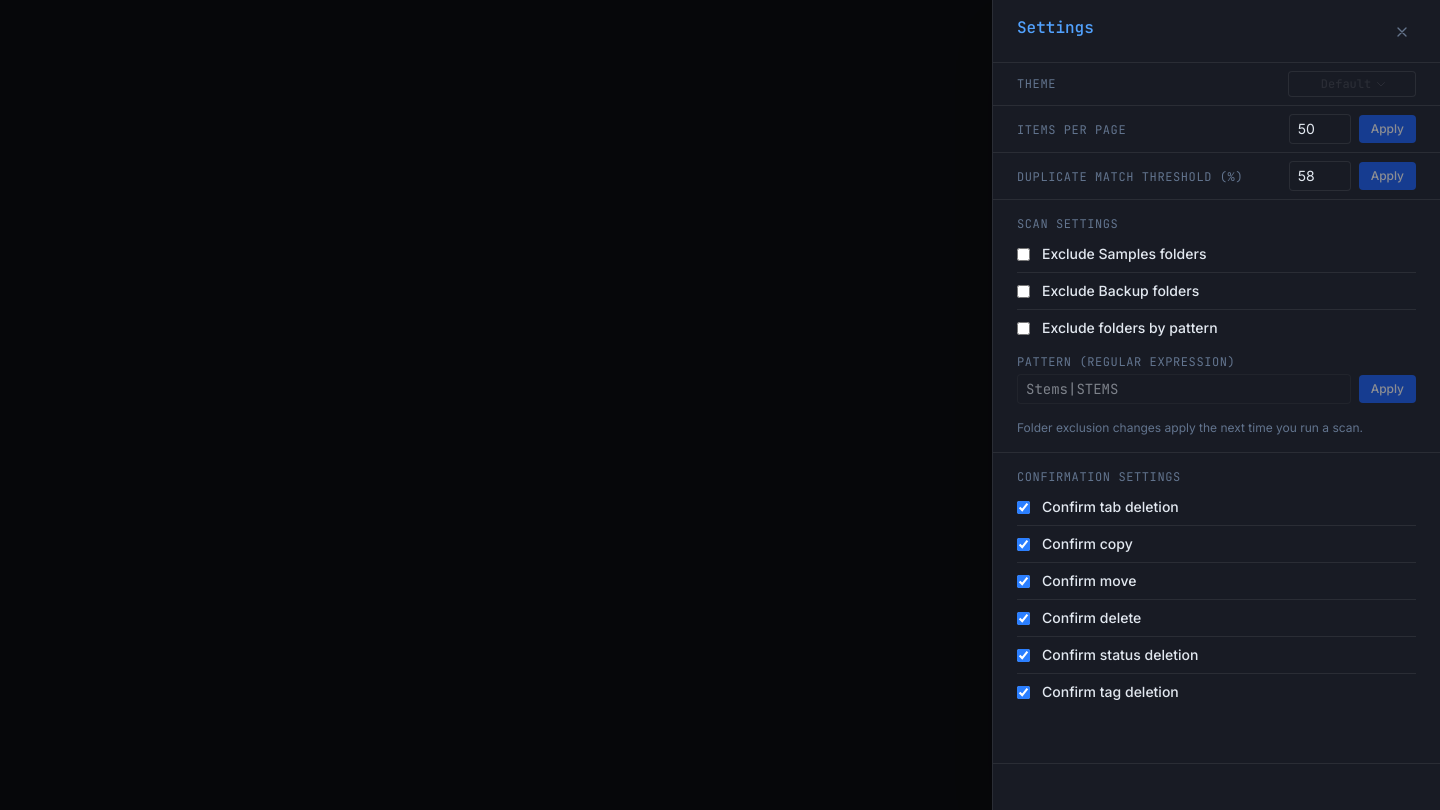
Test: SettingsPanel - handleChange optimistic merge › checks the box immediately (optimistic) without waiting for the save to resolve
Click the checkbox labelled "Exclude Samples folders": {"x": 1024, "y": 254} [1017,248,1030,260]
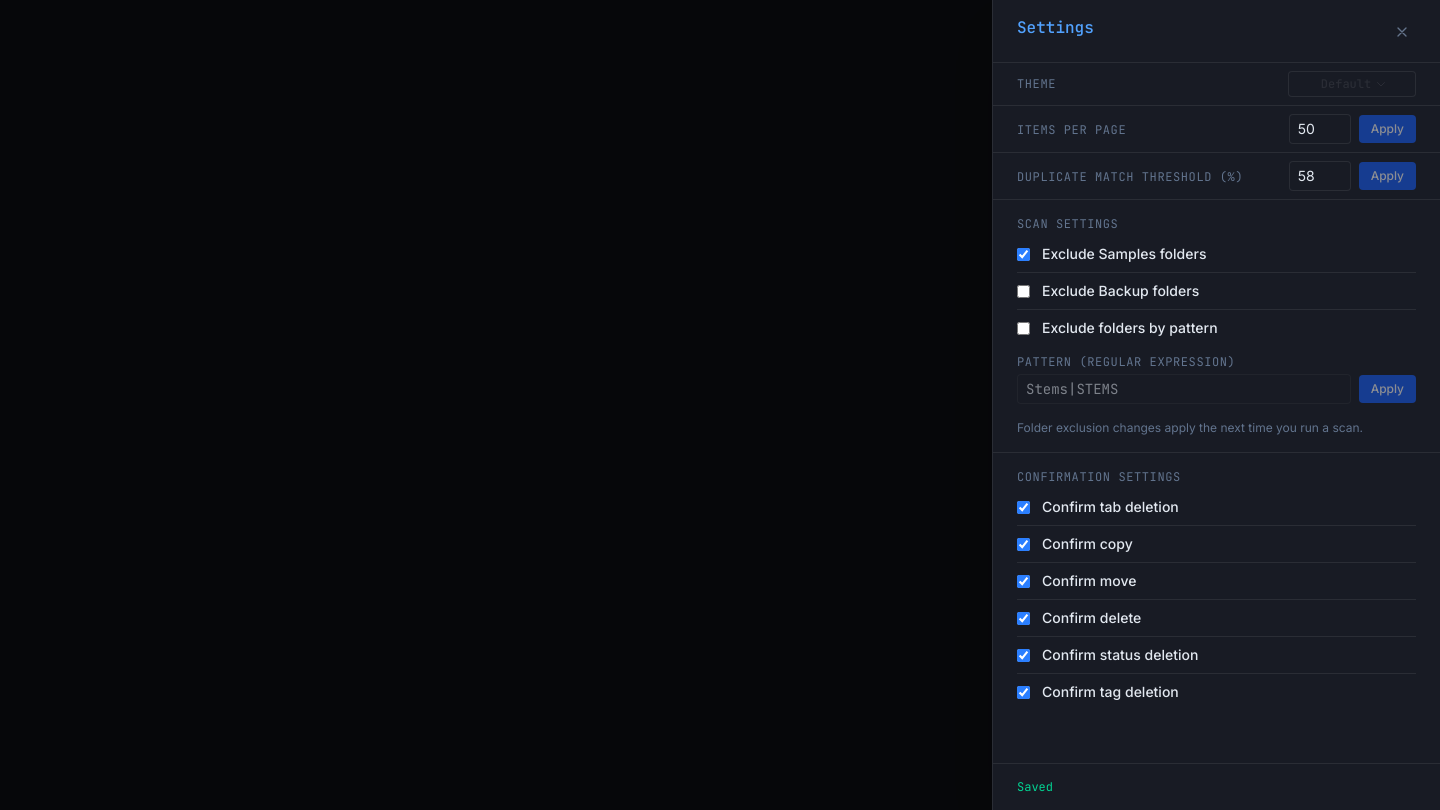
Expected: the checkbox labelled "Exclude Samples folders" is checked, [1017,248,1030,260]
Expected: the text "Saved" is shown, [1017,779,1053,795]
